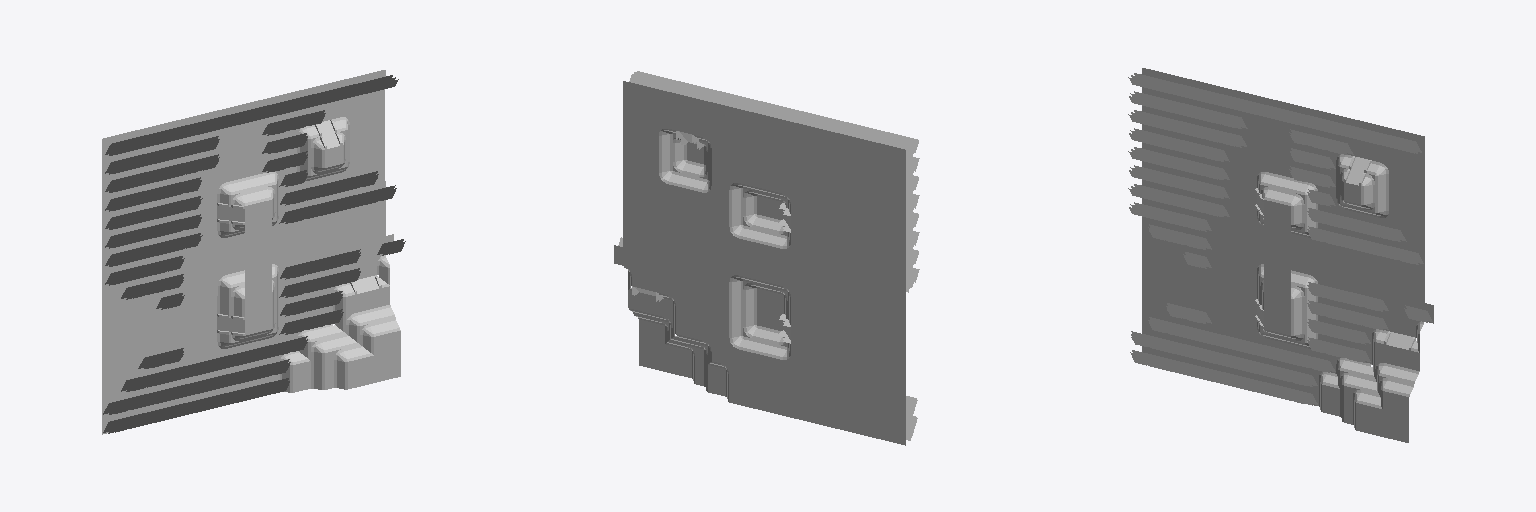
The model's file is Plat_full_17_12.obj.
3 views of the same model, side by side, from view 1: azimuth 30°, elevation 25°; view 2: azimuth 150°, elevation 25°; view 3: azimuth 330°, elevation 25° (orthographic).
Visible parts, largest first — view 1: map; view 2: map; view 3: map.
Boxes of the visible parts, <box> form: map: <box>102,70,405,434</box>; map: <box>614,71,919,445</box>; map: <box>1128,68,1433,442</box>.
Bounding box in the file's own units: 33.5 × 32.12 × 3.